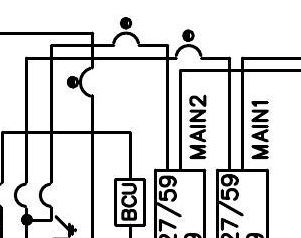BCU: (113, 177, 147, 228)
